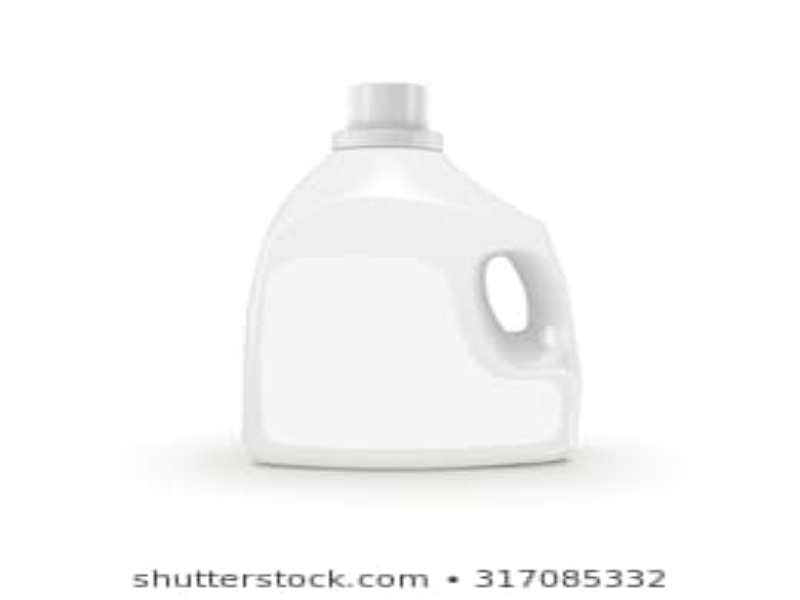bottle-cap: (319, 80, 449, 154)
detergent-bottle: (240, 77, 588, 473)
